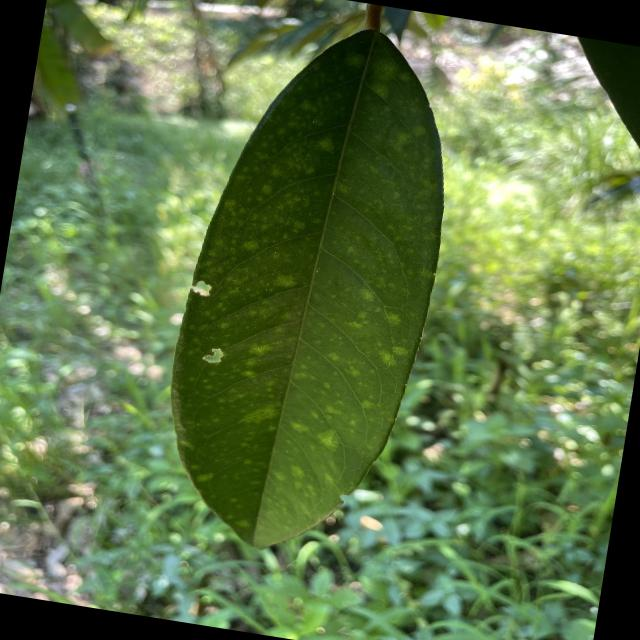Leaf Spot: (138, 0, 489, 582)
